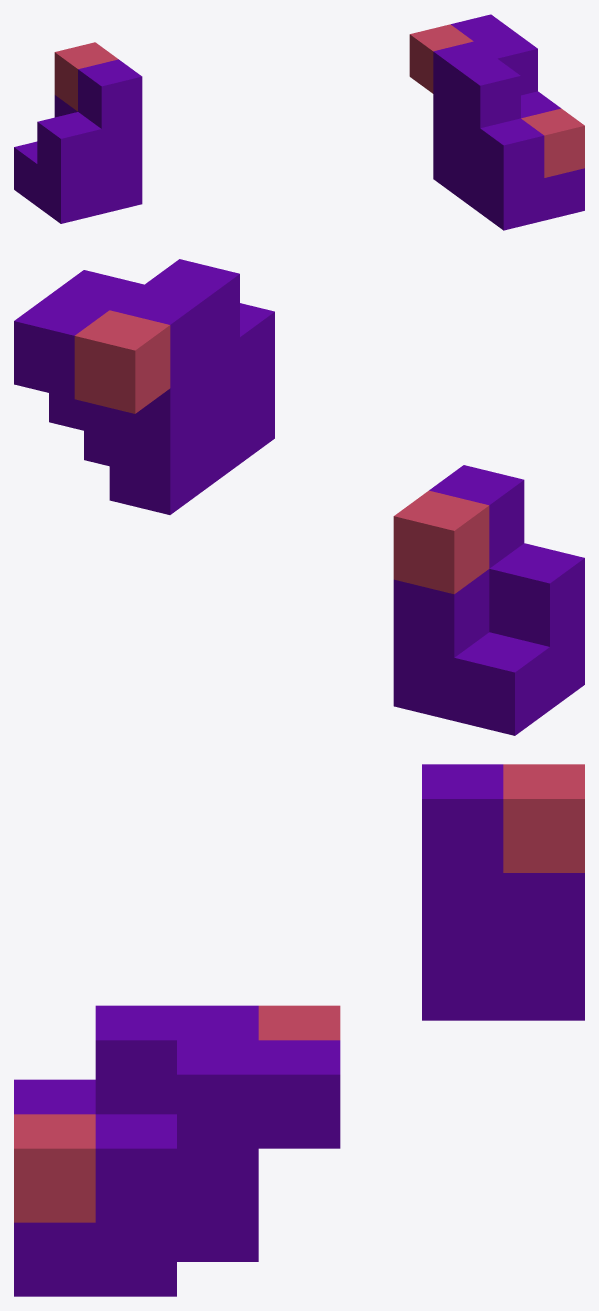
File: Octo guy leg 1.obj
3 renders of one model, top to bottom at view 1: azimuth 30°, elevation 25°; view 2: azimuth 150°, elevation 25°; view 3: azimuth 270°, elevation 25°, orthographic. The views are drawn at different scales.
Size of the model in its own units: 10 by 3 by 7.
Materials: 1 (1 with a texture image).
